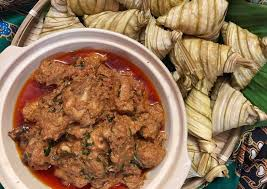rendang: (9, 47, 173, 189)
